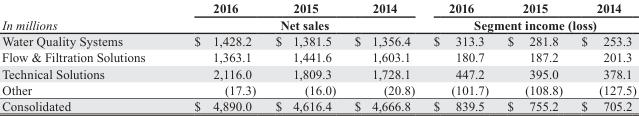table: (1, 0, 635, 112)
table column: (1, 0, 168, 112), (168, 0, 264, 112), (264, 0, 344, 112), (344, 0, 423, 112), (423, 0, 497, 112), (497, 0, 571, 112), (571, 0, 635, 112)
table column header: (1, 0, 635, 16)
table row: (1, 48, 635, 65), (1, 0, 635, 16), (1, 16, 635, 32), (1, 32, 635, 48), (1, 65, 635, 81), (1, 81, 635, 97), (1, 97, 635, 112)
table spanning cell: (168, 16, 423, 32), (423, 16, 635, 32)
